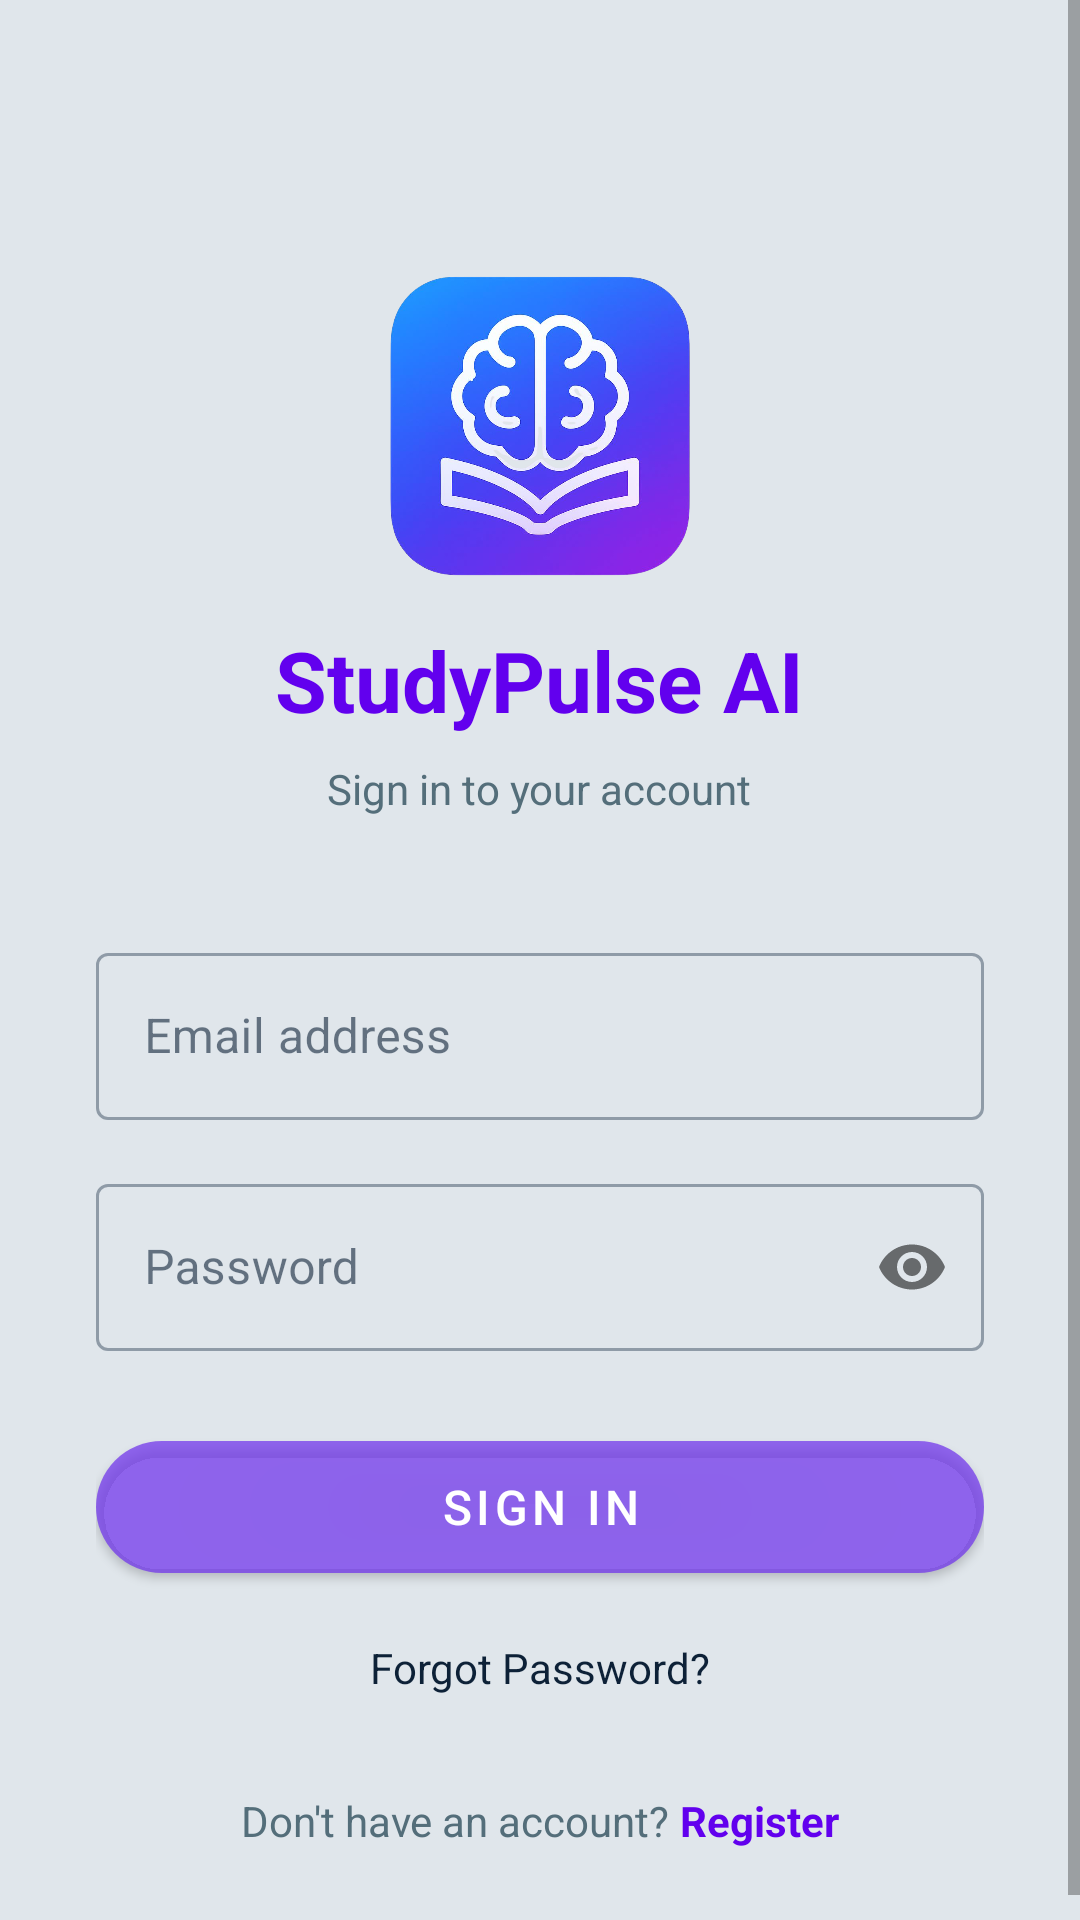

Icon click points for this 1080*1920 phone screenshot, format (x,y):
brain: (540,426)
